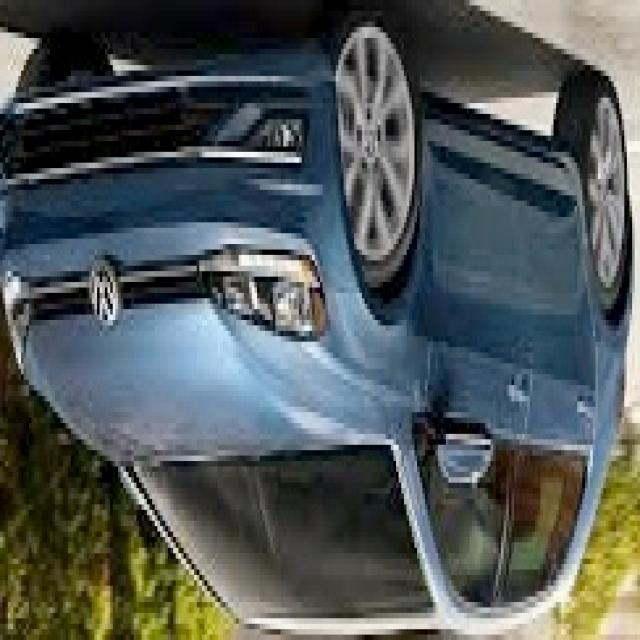blue: (8, 6, 640, 629)
